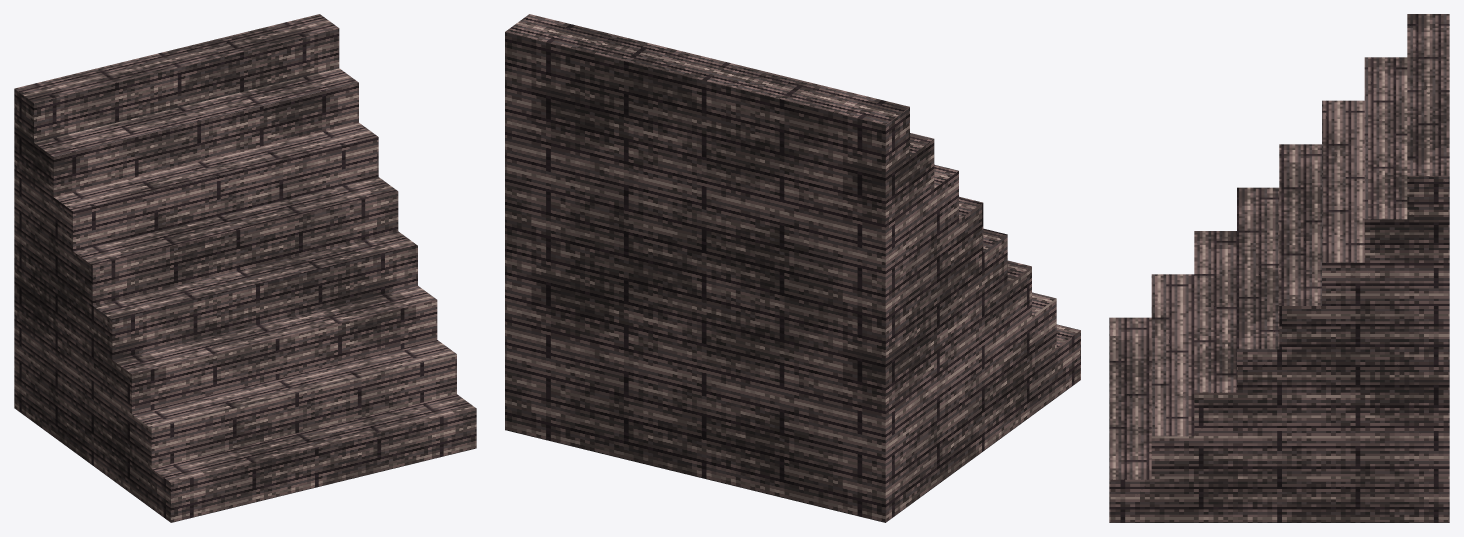
Rendered from hellbilly stairs.obj.
3 views of the same model, side by side, from view 1: azimuth 30°, elevation 25°; view 2: azimuth 150°, elevation 25°; view 3: azimuth 270°, elevation 25° (orthographic). The views are drawn at different scales.
Visible parts, largest first — view 1: Stairs; view 2: Stairs; view 3: Stairs.
Boxes of the visible parts, x1,y1,x2,y2 form: Stairs: (14,14,476,522); Stairs: (505,14,1080,522); Stairs: (1109,14,1449,522).
Bounding box in the file's own units: 2 × 2 × 1.78.
